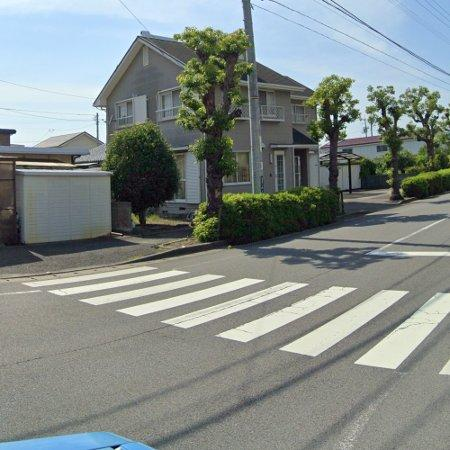crosswalks: (27, 264, 450, 372)
